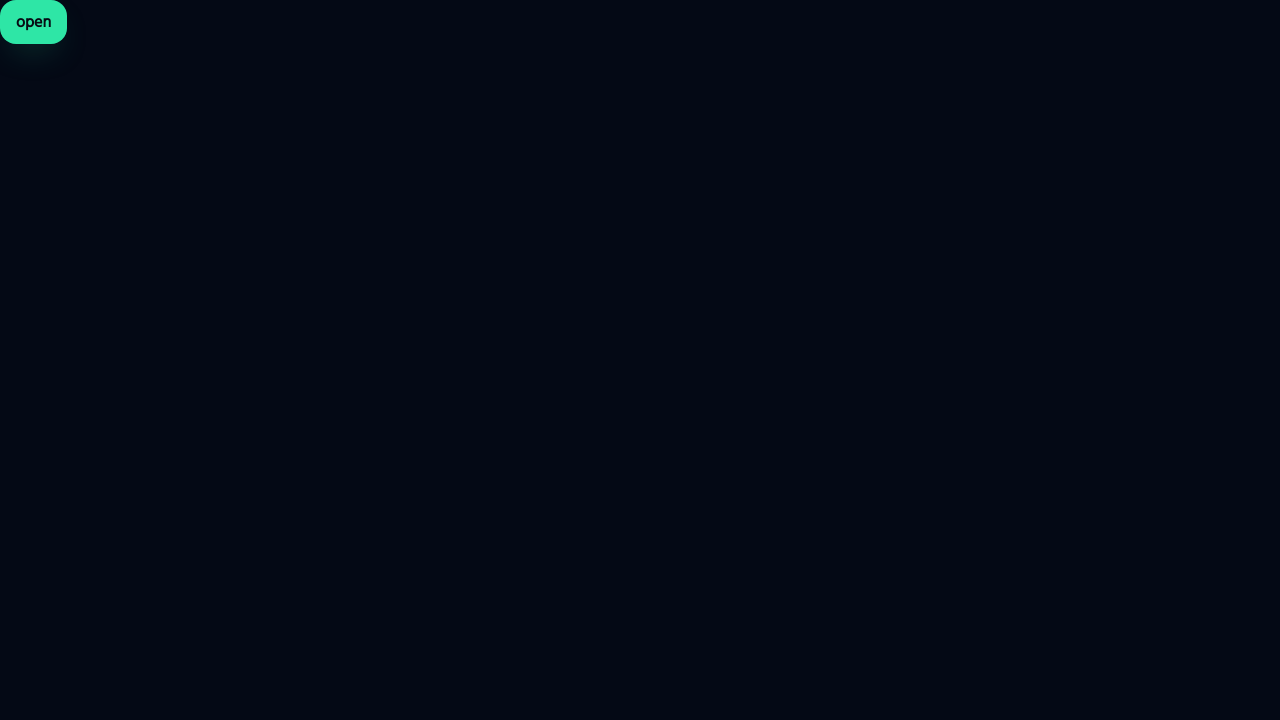
Scenario: CitationSheet › FR-70 refuses a link that is not http or https
The image size is (1280, 720).
Click the button "open" at (34, 22), box x1=0 y1=0 x2=67 y2=44
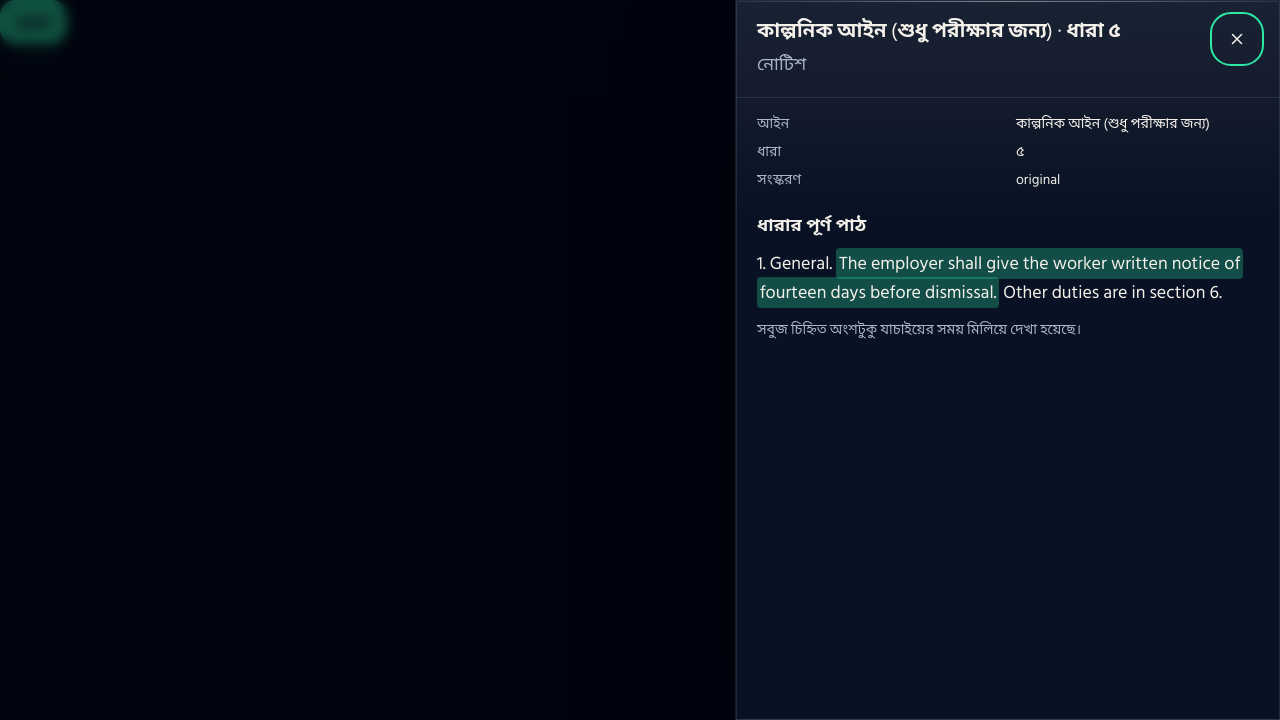
Expected: the text "The employer shall give the worker written notice of fourteen days before dismissal." is shown, x1=760 y1=249 x2=1240 y2=307
